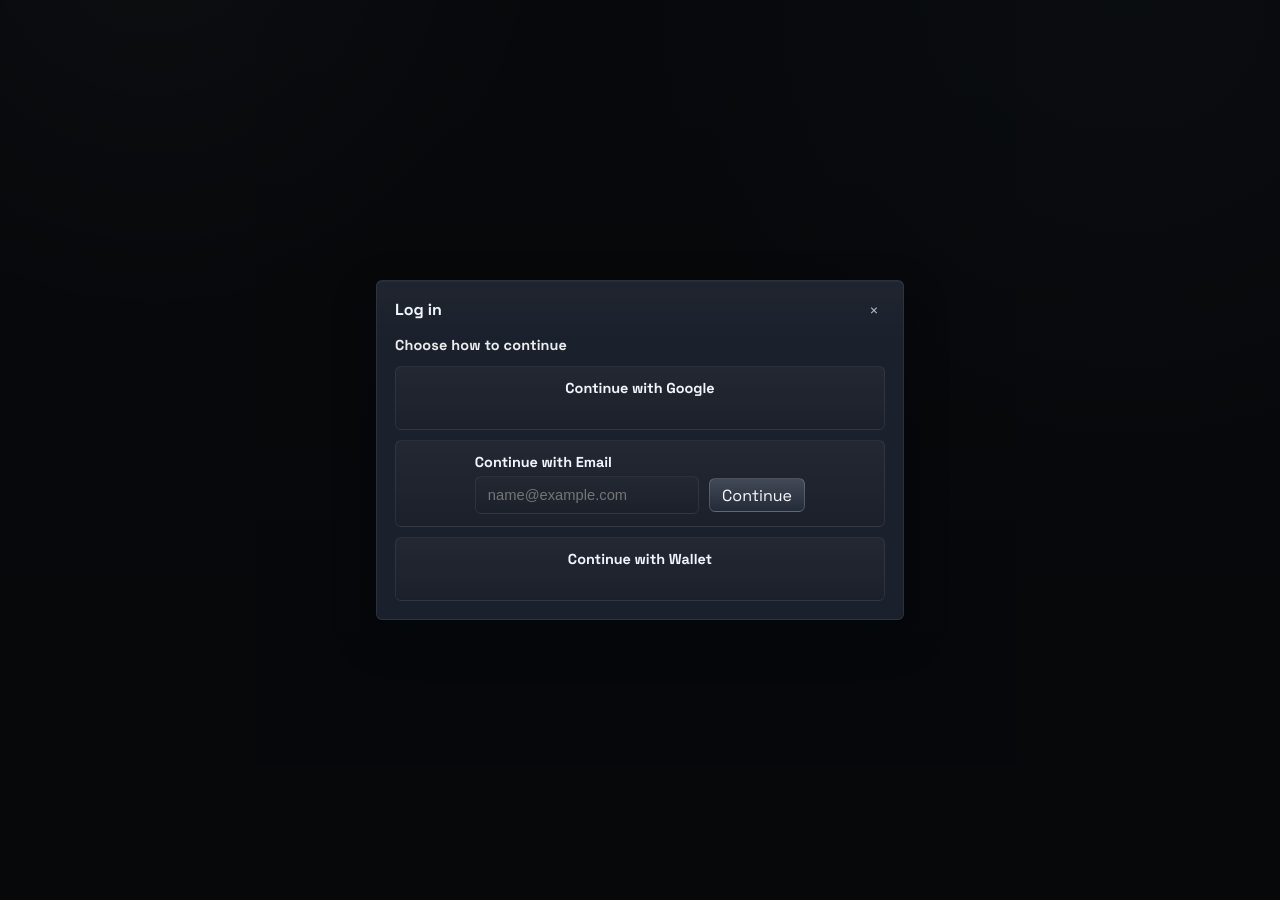
it: MorosAuthDialog › opens the detected wallet list after wallet discovery
The image size is (1280, 900).
Click the button "Continue with Wallet": (640, 569) [395,537,885,601]
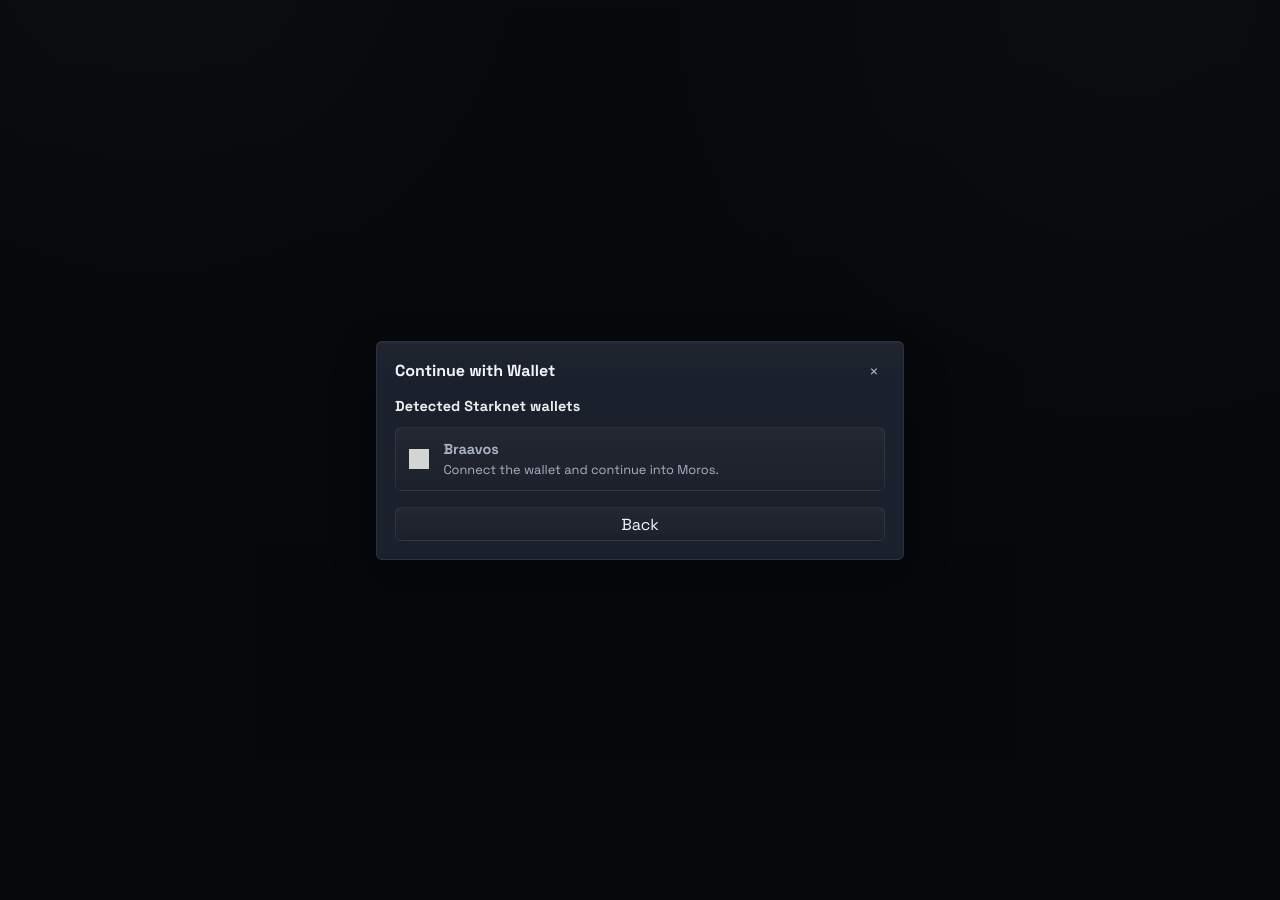
Expected: the heading "Continue with Wallet" is shown, [395,360,555,380]
Expected: the button "Braavos Connect the wallet and continue into Moros." is shown, [395,426,885,490]
